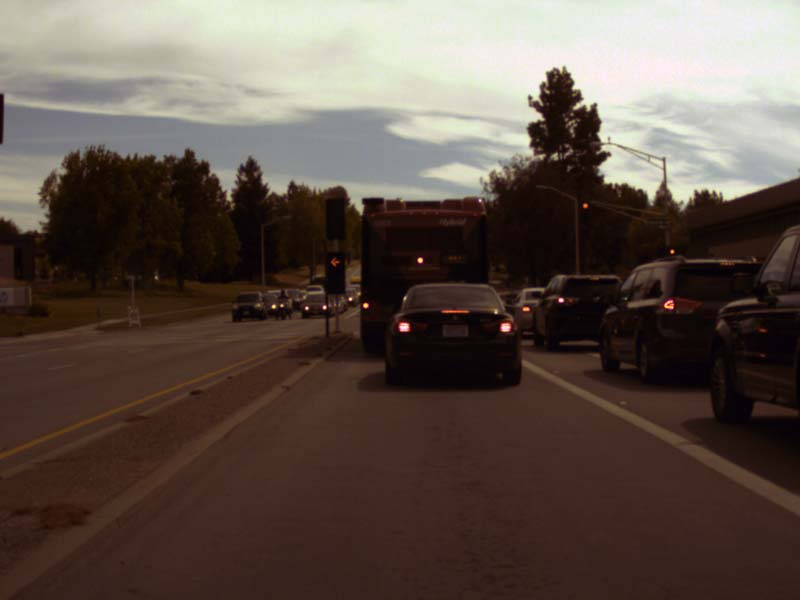Red: (326, 253, 343, 293), (581, 201, 588, 219), (668, 247, 675, 263)
